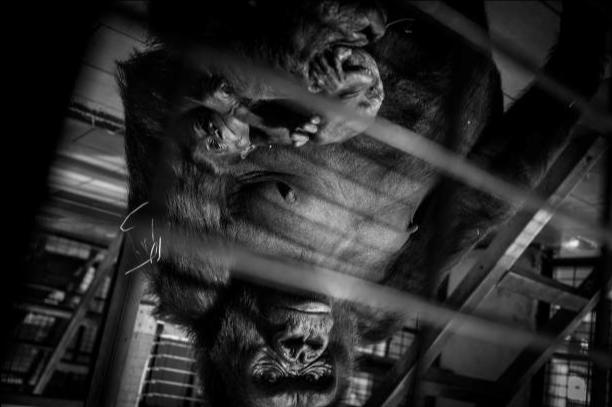gorille_Autres: (142, 206, 500, 407)
